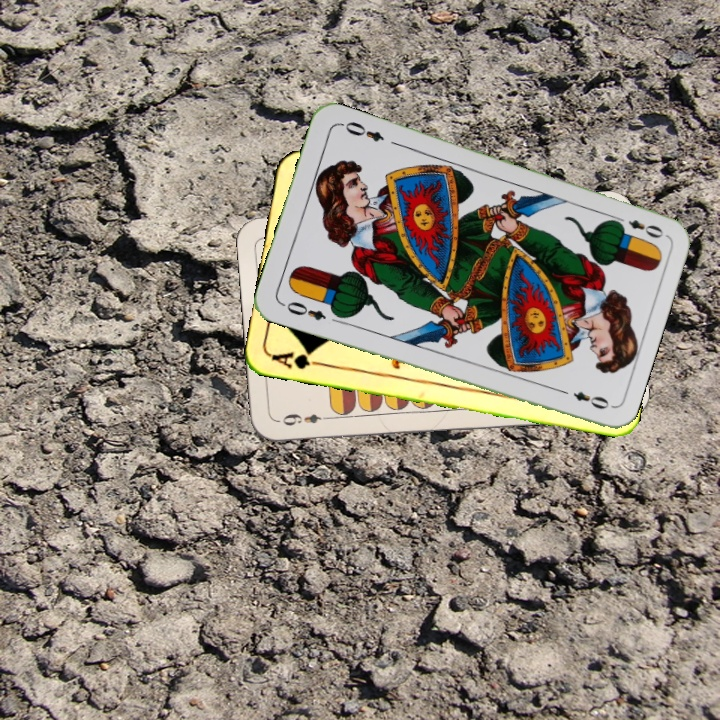E9: (279, 409, 334, 429)
EO: (609, 211, 666, 241), (277, 297, 329, 323)
GA: (268, 347, 328, 372)
